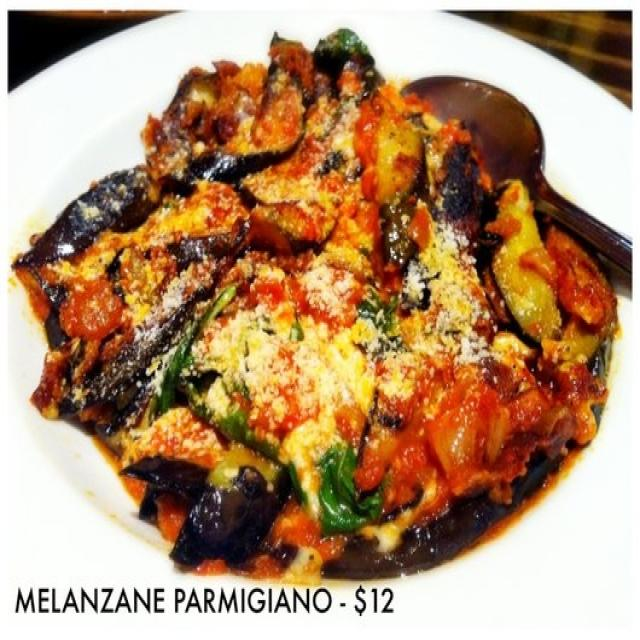鸡蛋料理: (19, 50, 604, 568)
